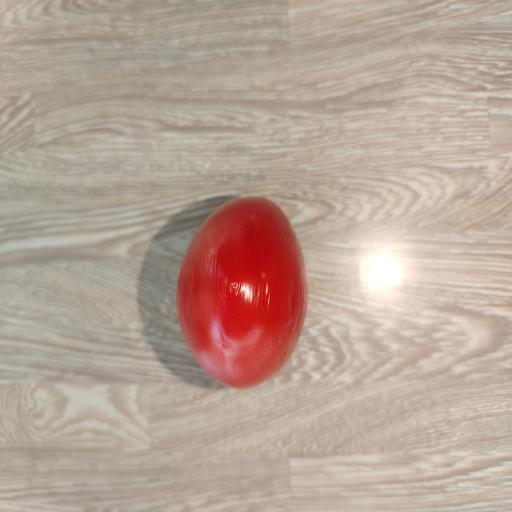spoiled: (177, 198, 308, 387)
